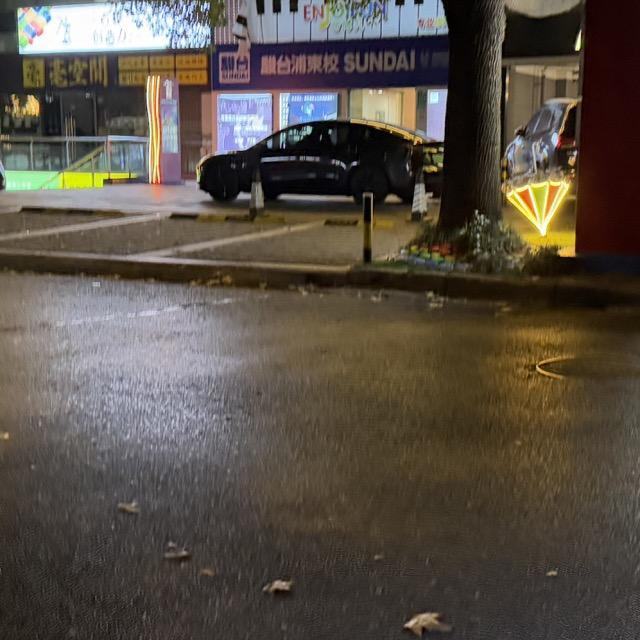curb: (0, 252, 343, 289), (348, 270, 639, 307)
